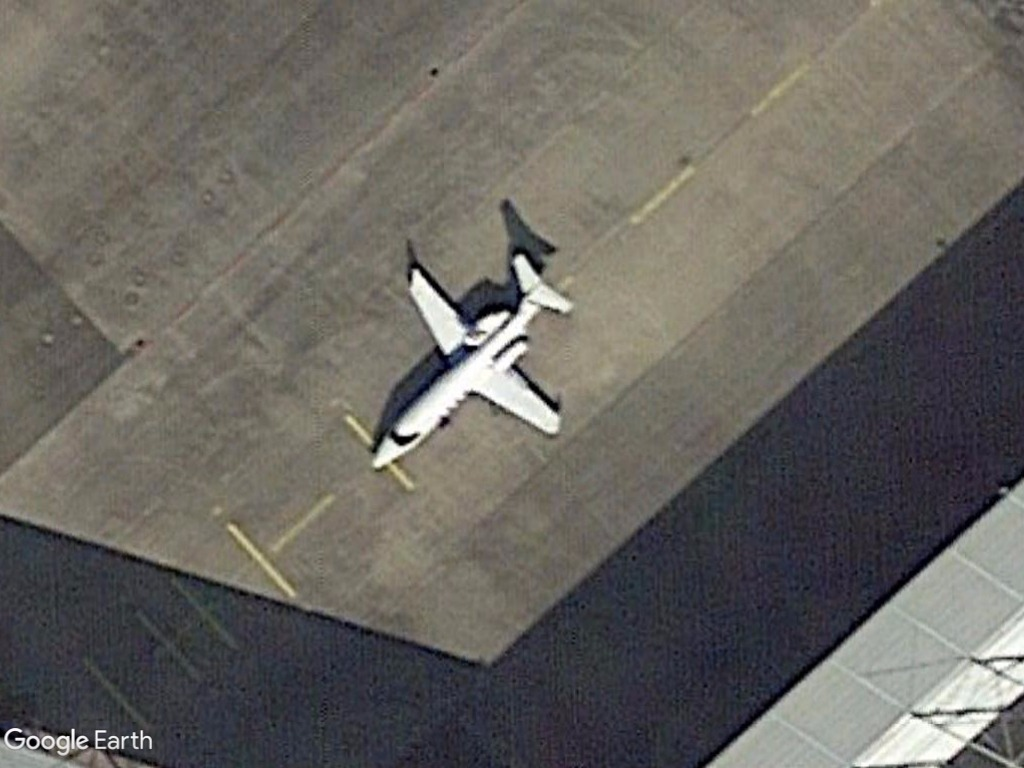chartered: (350, 236, 594, 496)
